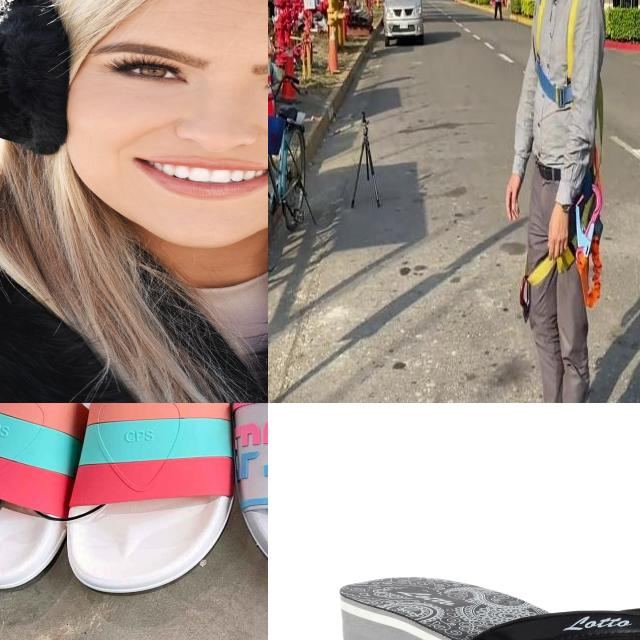Ear-protection: (0, 8, 81, 158)
Harness: (520, 154, 604, 320), (535, 0, 580, 109)
Sandals: (0, 403, 247, 624), (337, 574, 640, 640)
